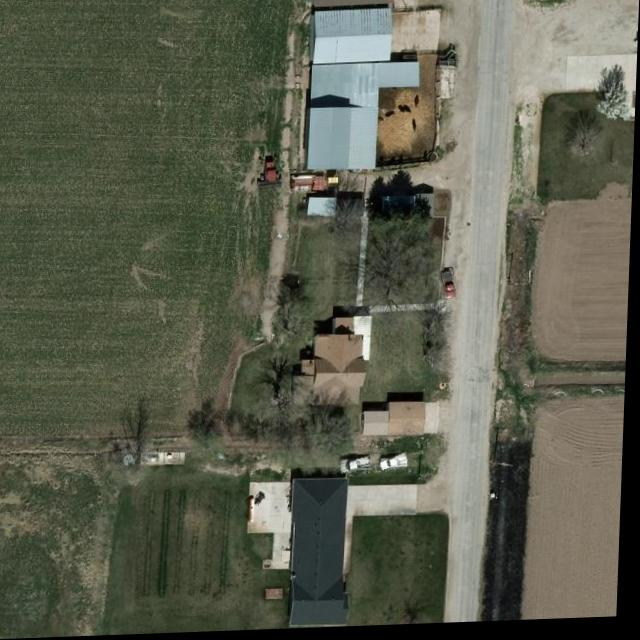vehicle: (441, 272, 460, 304), (343, 460, 375, 475), (384, 457, 412, 472)
